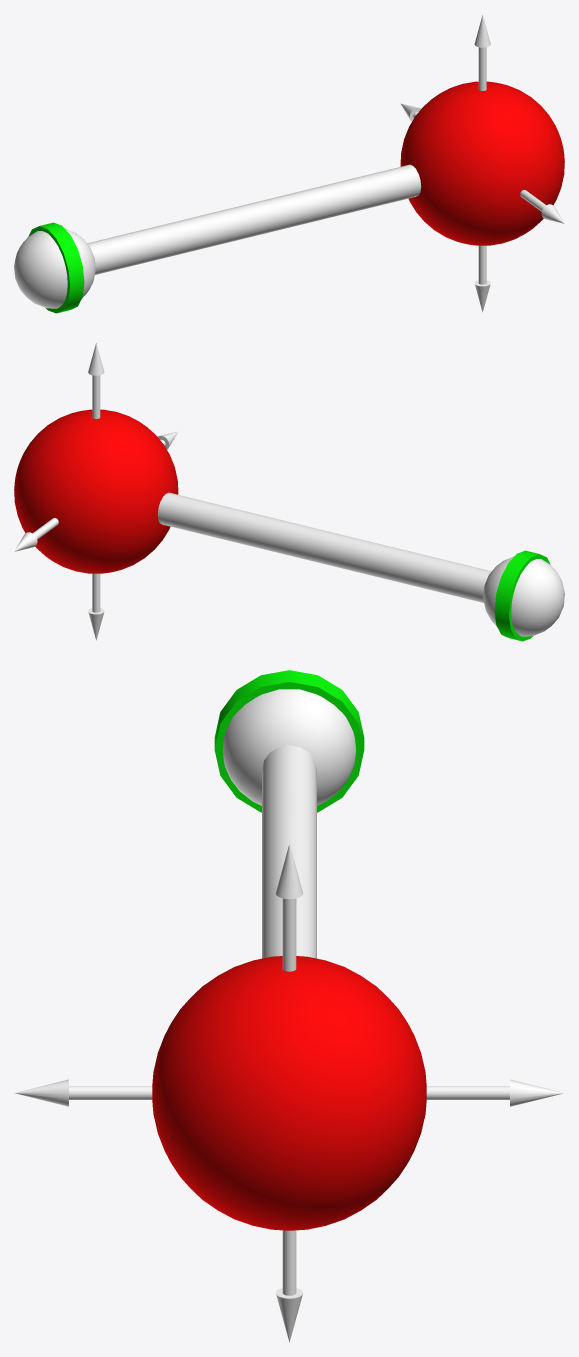
File: Pen.fbx
The picture shows the model from 3 angles, top to bottom: view 1: azimuth 30°, elevation 25°; view 2: azimuth 150°, elevation 25°; view 3: azimuth 270°, elevation 25°; orthographic projection. The views are drawn at different scales.
Visible parts, largest first — view 1: PenSelectArea, PenBody, PenEraser, PenManipulator, PenMicrophone; view 2: PenSelectArea, PenBody, PenEraser, PenManipulator, PenMicrophone; view 3: PenSelectArea, PenBody, PenEraser, PenManipulator, PenMicrophone.
Boxes of the visible parts, box(x1,y1,x2,y2) form: PenSelectArea: box(400, 81, 564, 245); PenBody: box(87, 164, 421, 274); PenEraser: box(14, 228, 95, 308); PenManipulator: box(400, 15, 564, 312); PenMicrophone: box(28, 222, 84, 313); PenSelectArea: box(14, 409, 178, 573); PenBody: box(157, 492, 491, 602); PenEraser: box(483, 556, 564, 636); PenManipulator: box(14, 343, 178, 640); PenMicrophone: box(494, 550, 550, 641); PenSelectArea: box(152, 956, 426, 1230); PenBody: box(262, 745, 316, 958); PenEraser: box(223, 689, 355, 805); PenManipulator: box(14, 843, 564, 1342); PenMicrophone: box(214, 670, 364, 812).
Size of the model in its own units: 0.375 by 0.2 by 0.2.
